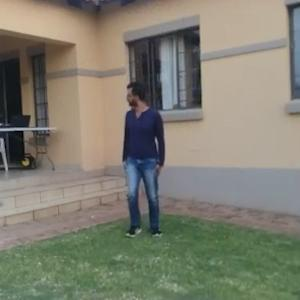follow: (115, 74, 167, 248)
